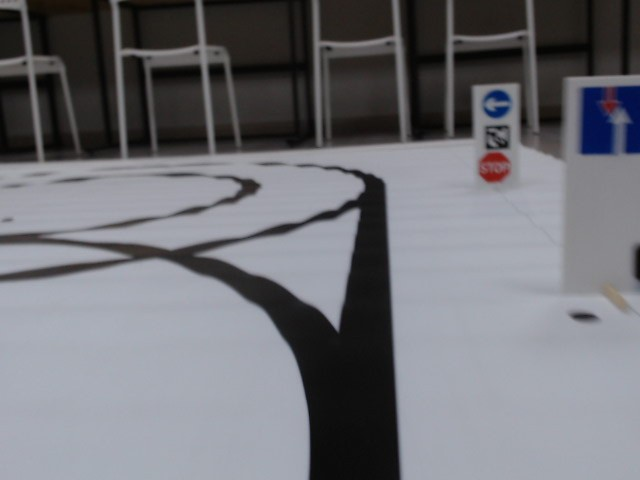Stop: (479, 153, 511, 181)
priority_movement: (577, 82, 640, 158)
